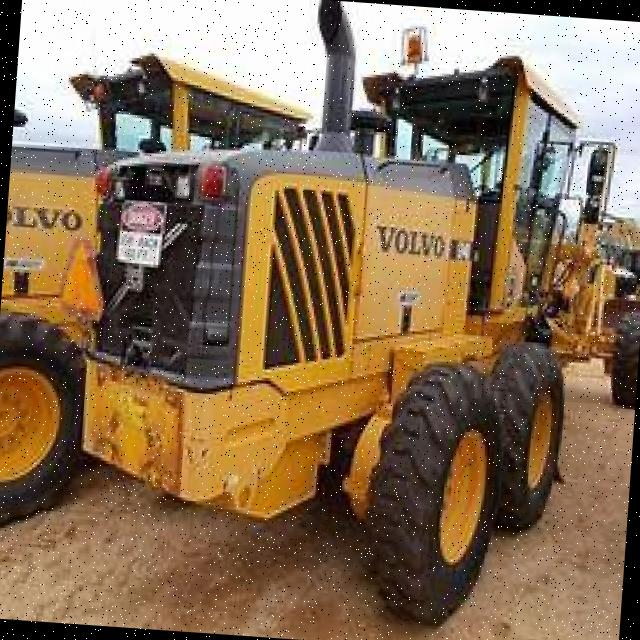Grader: (54, 0, 640, 624)
